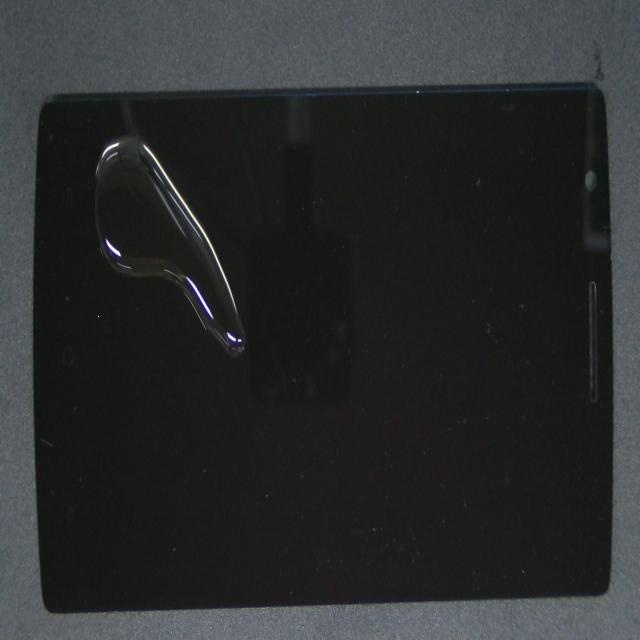oil: (107, 75, 204, 214)
